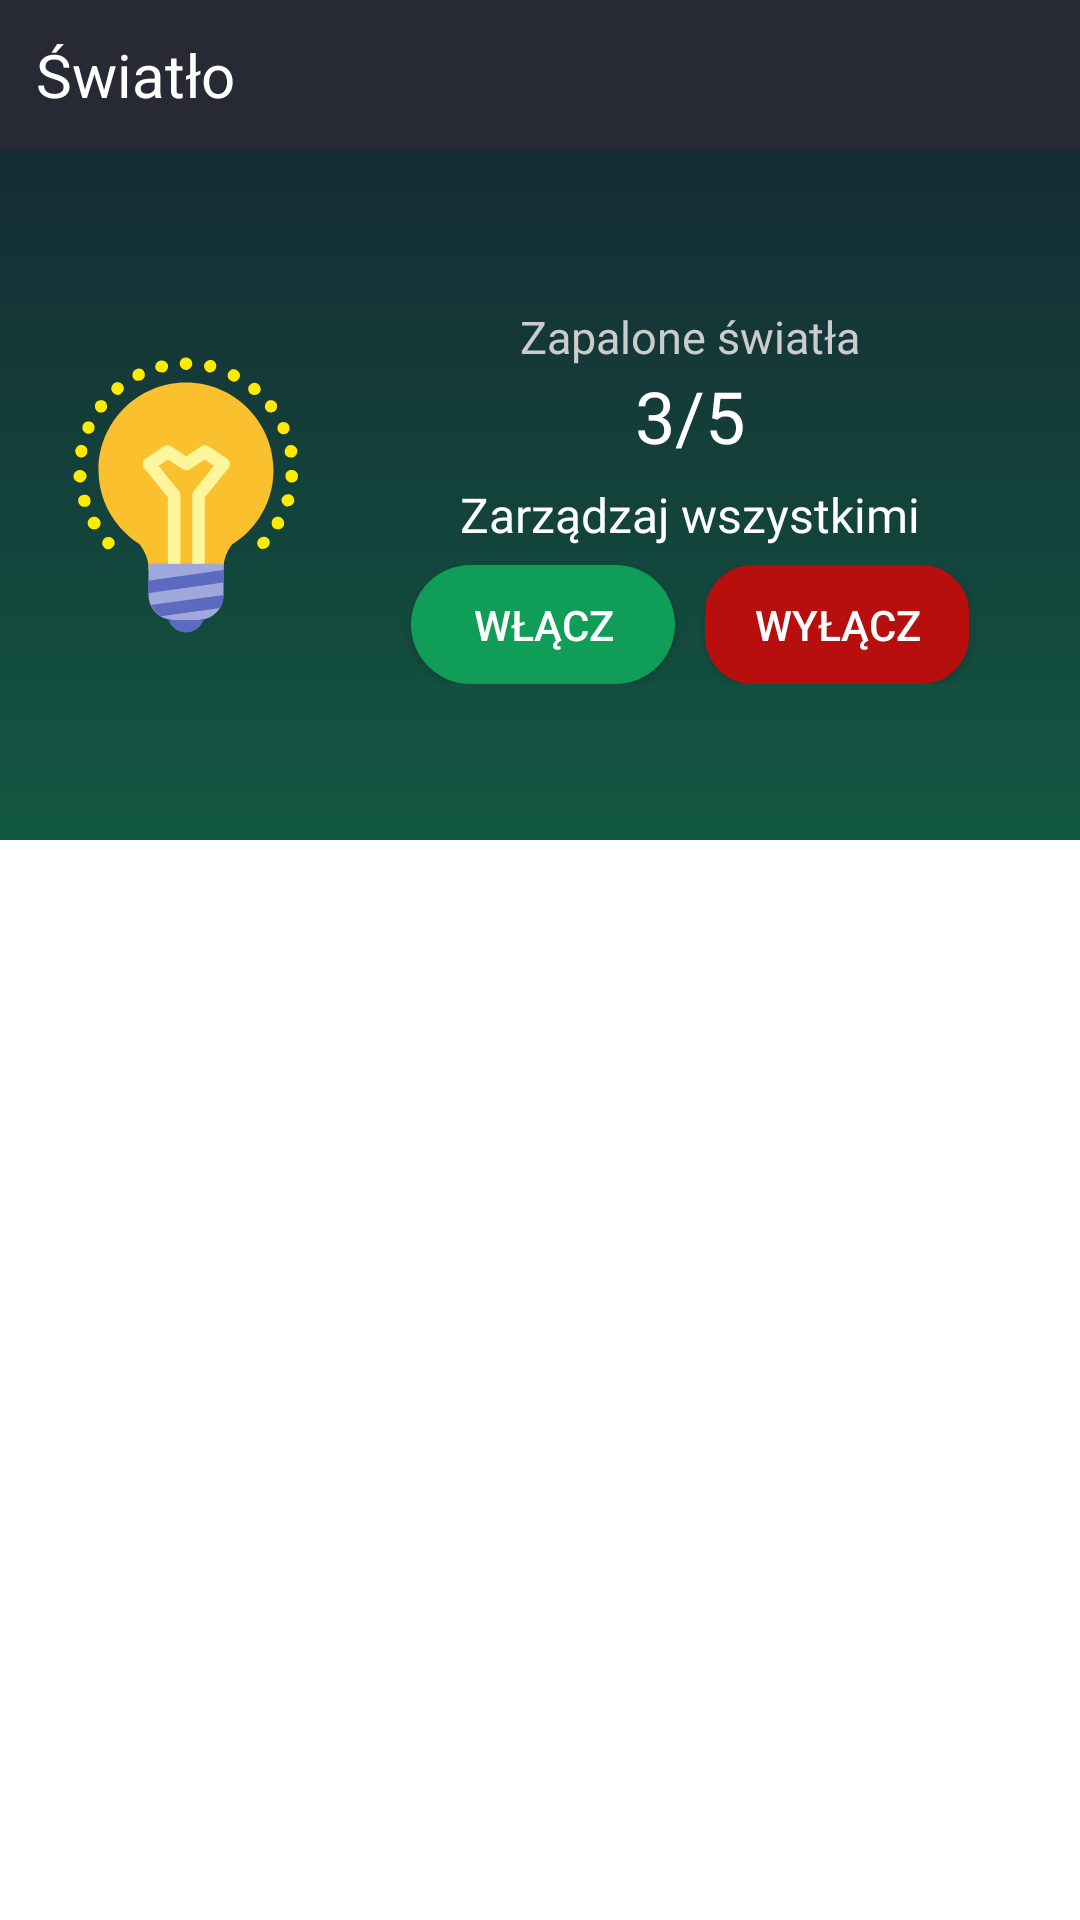

Locate icon controls on the screen. Image size 1080×1920, boxes as (x1, y1, x2, y2).
bulb: (73, 357, 298, 633)
